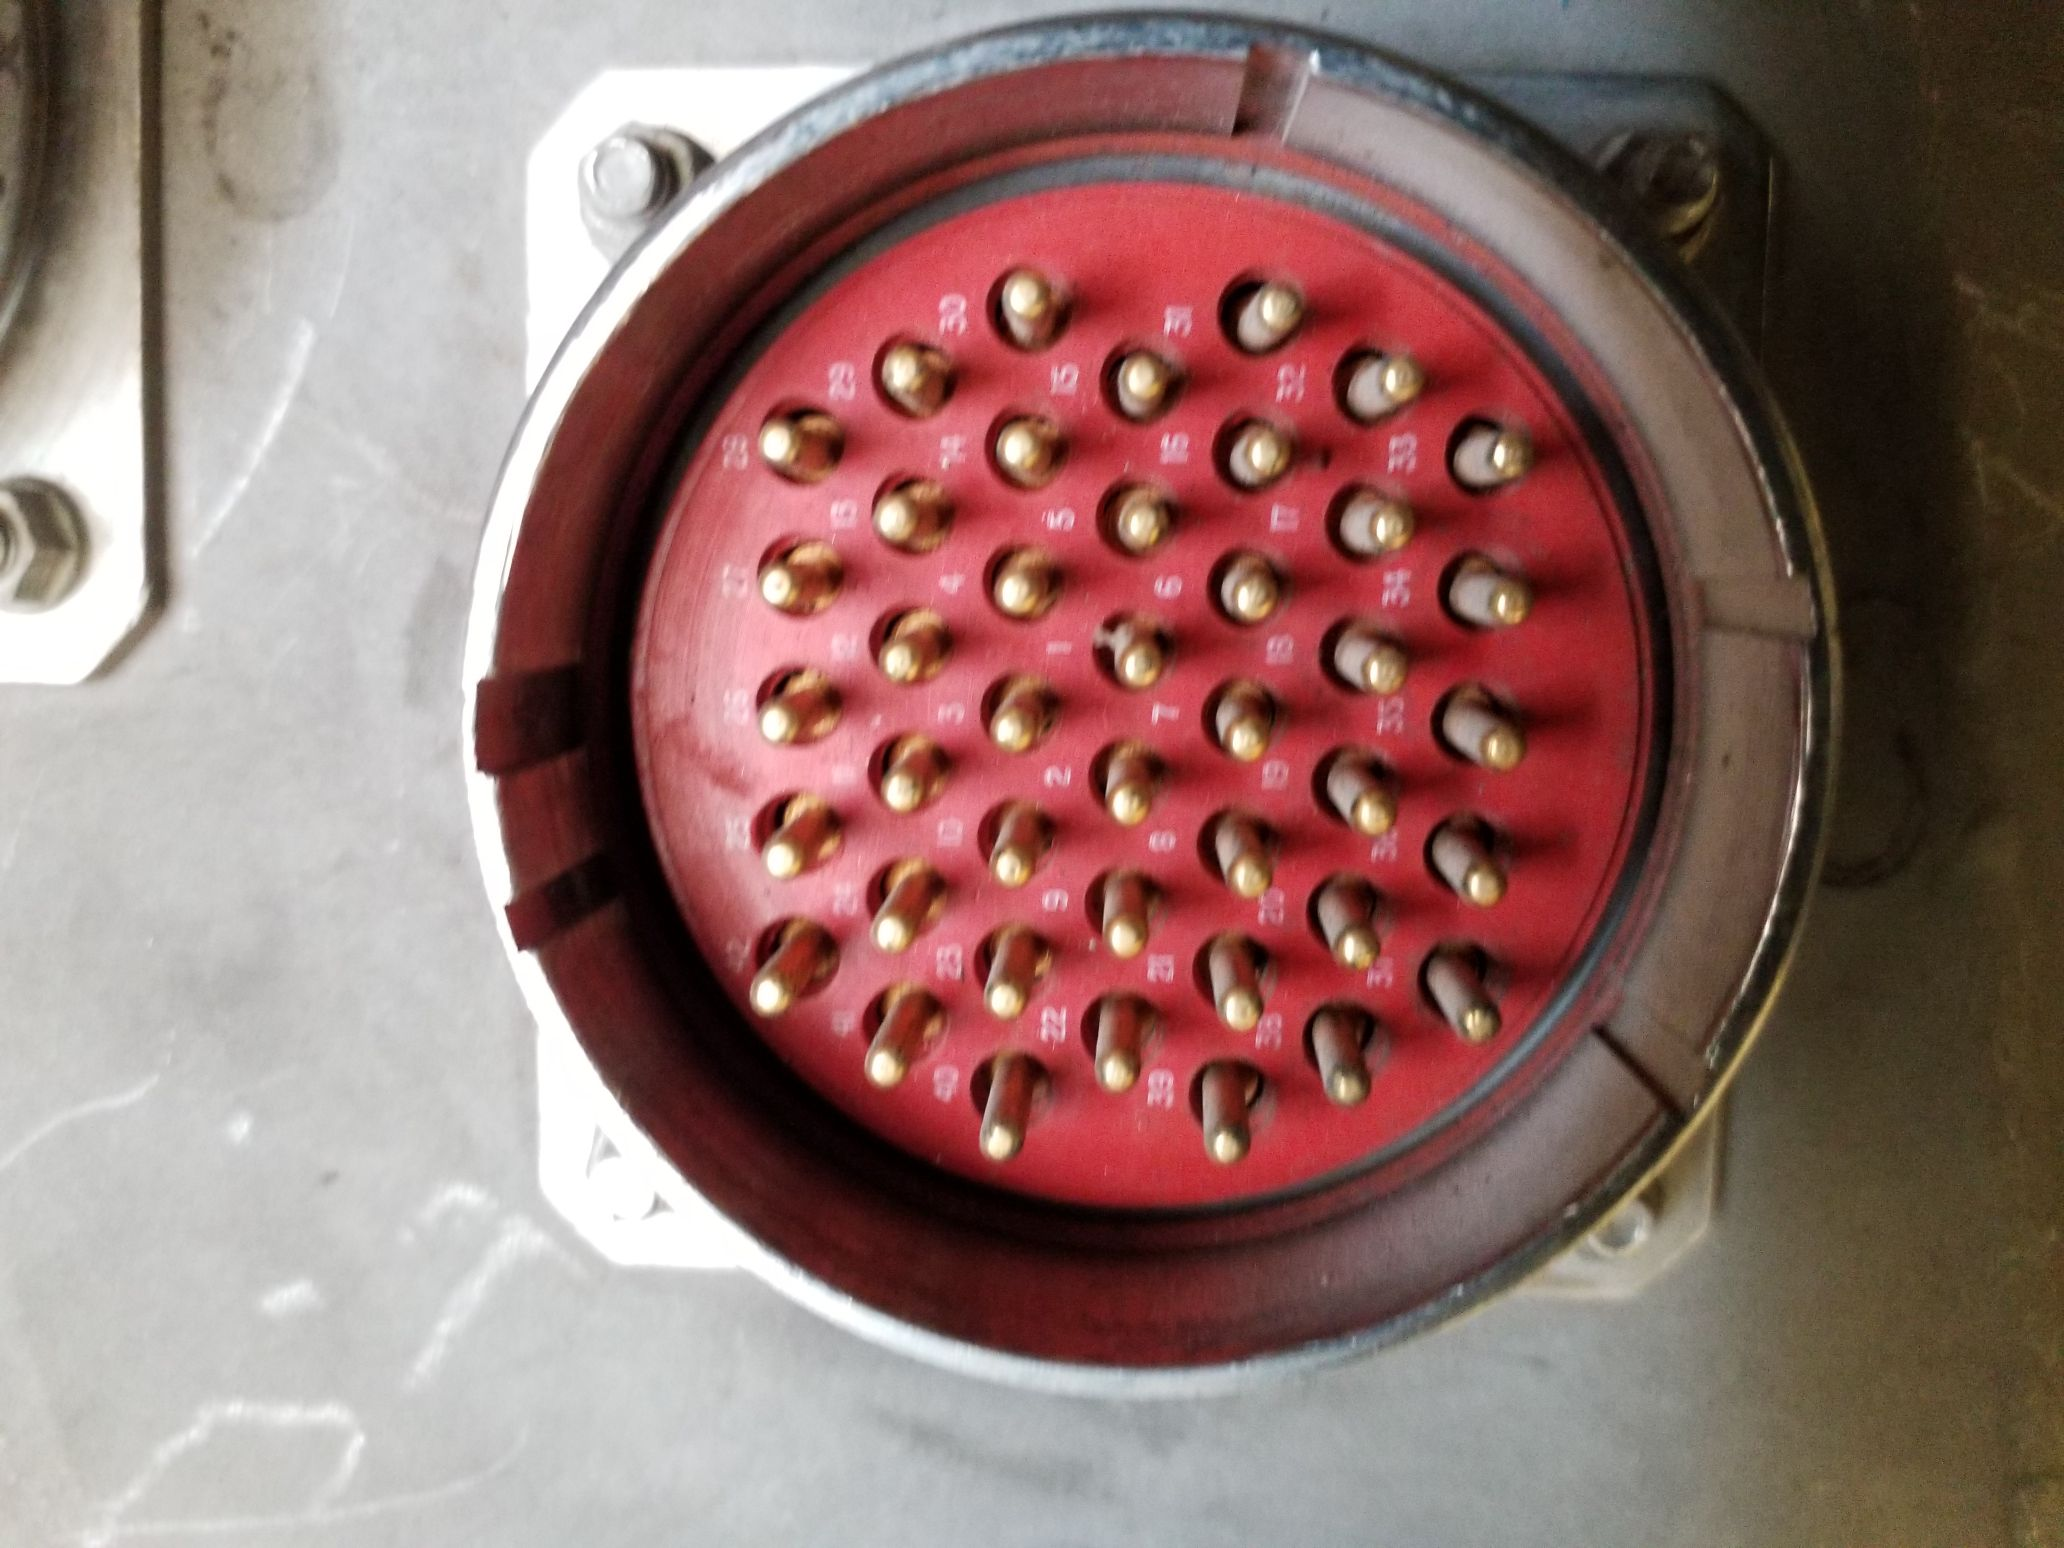outlet: (418, 16, 1903, 1389)
